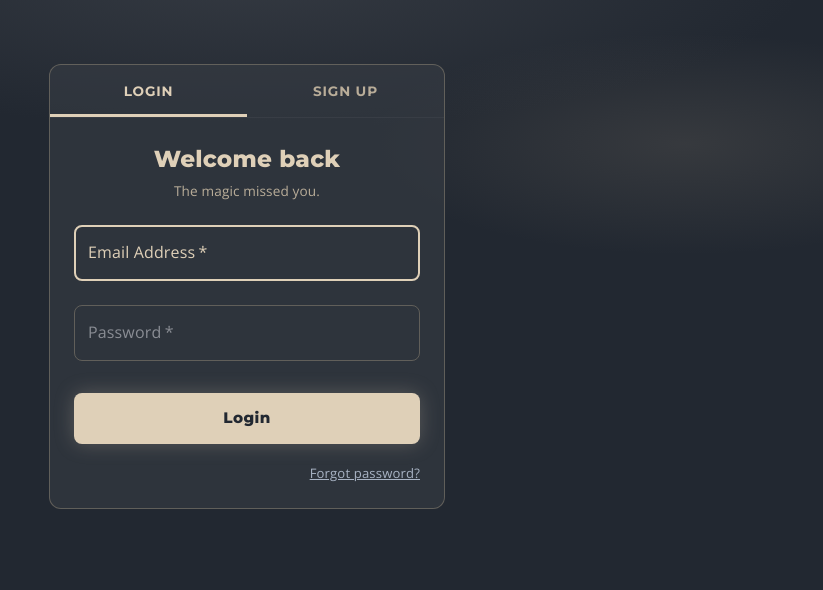
Test: LoginPage Component › should display generic error message from signIn on other errors
This screenshot has width=823, height=590.
Type "test@example.com" into the field labelled "Email Address *".
click(247, 253); type("test@example.com")  # box [74, 225, 420, 281]
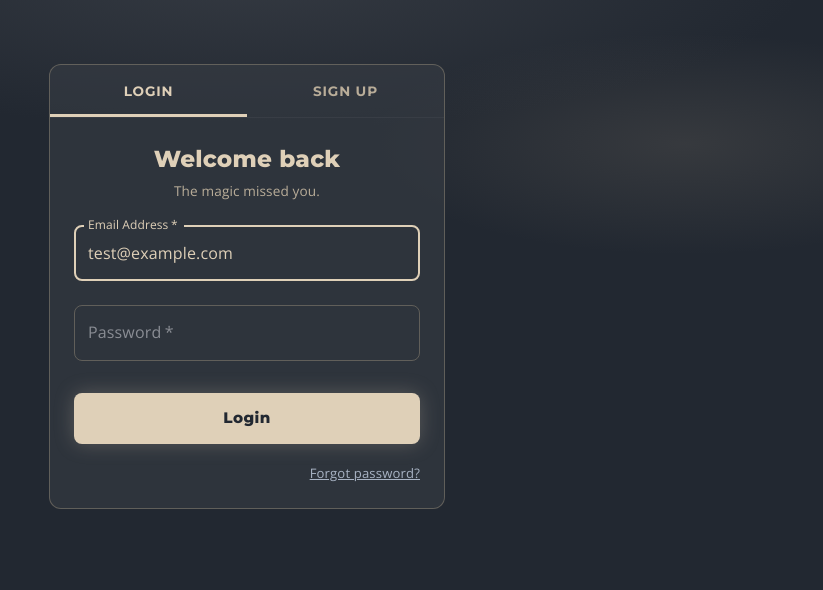
Type "password123" into the password field labelled "Password *".
click(247, 333); type("password123")  # box [74, 305, 420, 361]
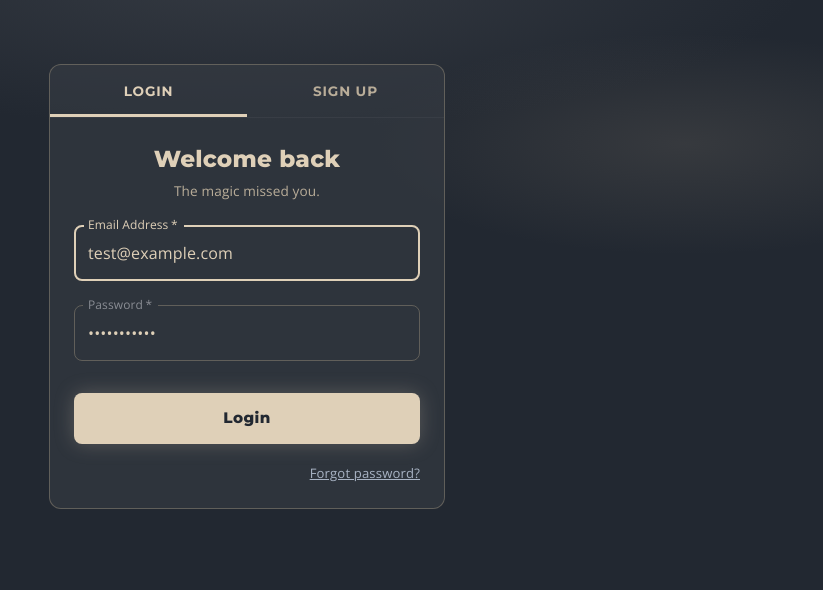
Click the button "Login".
click(247, 418)  # box [74, 393, 420, 444]
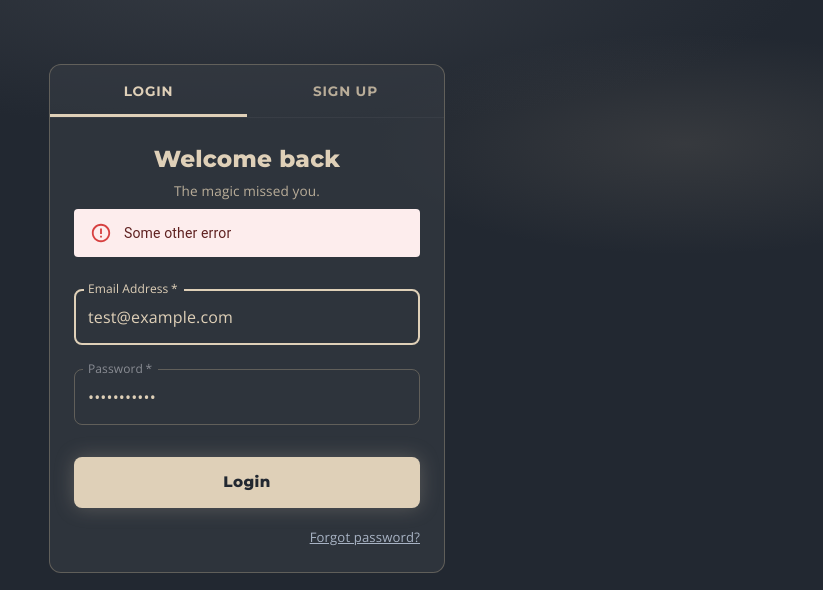
Expected: the text "Some other error" is shown, [124, 225, 231, 241]
